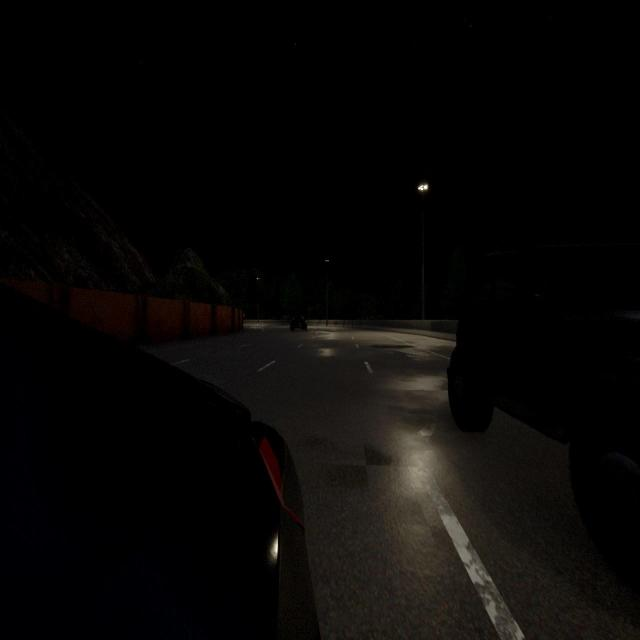Vehicle: (0, 285, 319, 640), (444, 254, 640, 560), (290, 315, 308, 332)
